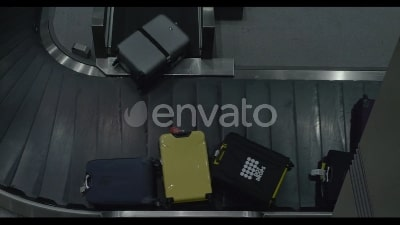baggage: (209, 132, 295, 211), (112, 14, 191, 83), (73, 156, 163, 214), (156, 126, 215, 202)
